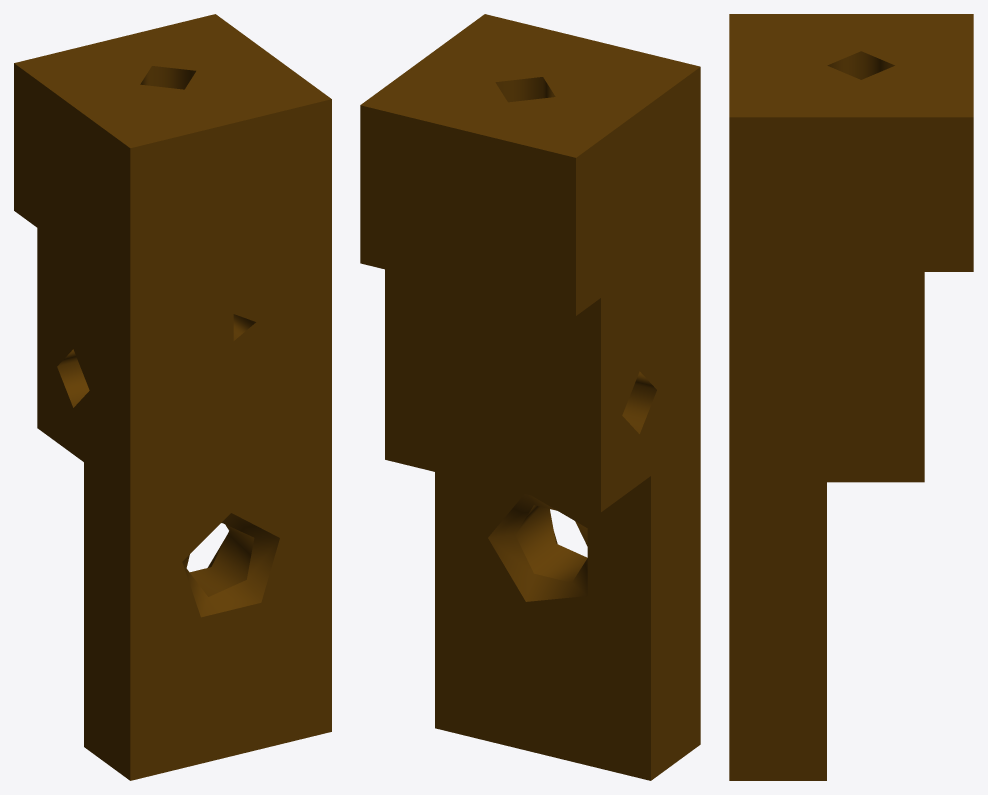
File: Pied marteaux Quarts.obj
3 renders of one model, left to right at view 1: azimuth 30°, elevation 25°; view 2: azimuth 150°, elevation 25°; view 3: azimuth 270°, elevation 25°, orthographic. The views are drawn at different scales.
Visible parts, largest first — view 1: Face_1, Face_10, Face_8, Face_17, Face_15, Face_13, Face_11; view 2: Face_10, Face_3, Face_5, Face_7, Face_8, Face_16, Face_15, Face_13, Face_11; view 3: Face_9, Face_8, Face_11.
Part boxes in pixels (<box>): Face_1: <box>130,99,331,780</box>; Face_10: <box>14,63,130,780</box>; Face_8: <box>14,14,331,148</box>; Face_17: <box>182,513,279,617</box>; Face_15: <box>190,524,254,596</box>; Face_13: <box>57,349,89,407</box>; Face_11: <box>140,66,195,89</box>; Face_10: <box>576,67,700,780</box>; Face_3: <box>435,472,650,780</box>; Face_5: <box>385,269,600,512</box>; Face_7: <box>360,105,575,315</box>; Face_8: <box>360,14,700,157</box>; Face_16: <box>488,494,587,601</box>; Face_15: <box>515,505,587,582</box>; Face_13: <box>622,371,656,433</box>; Face_11: <box>495,77,555,102</box>; Face_9: <box>729,117,973,780</box>; Face_8: <box>729,14,973,117</box>; Face_11: <box>827,51,894,79</box>.
Size of the model in its own units: 0.01 by 0.03 by 0.01.
